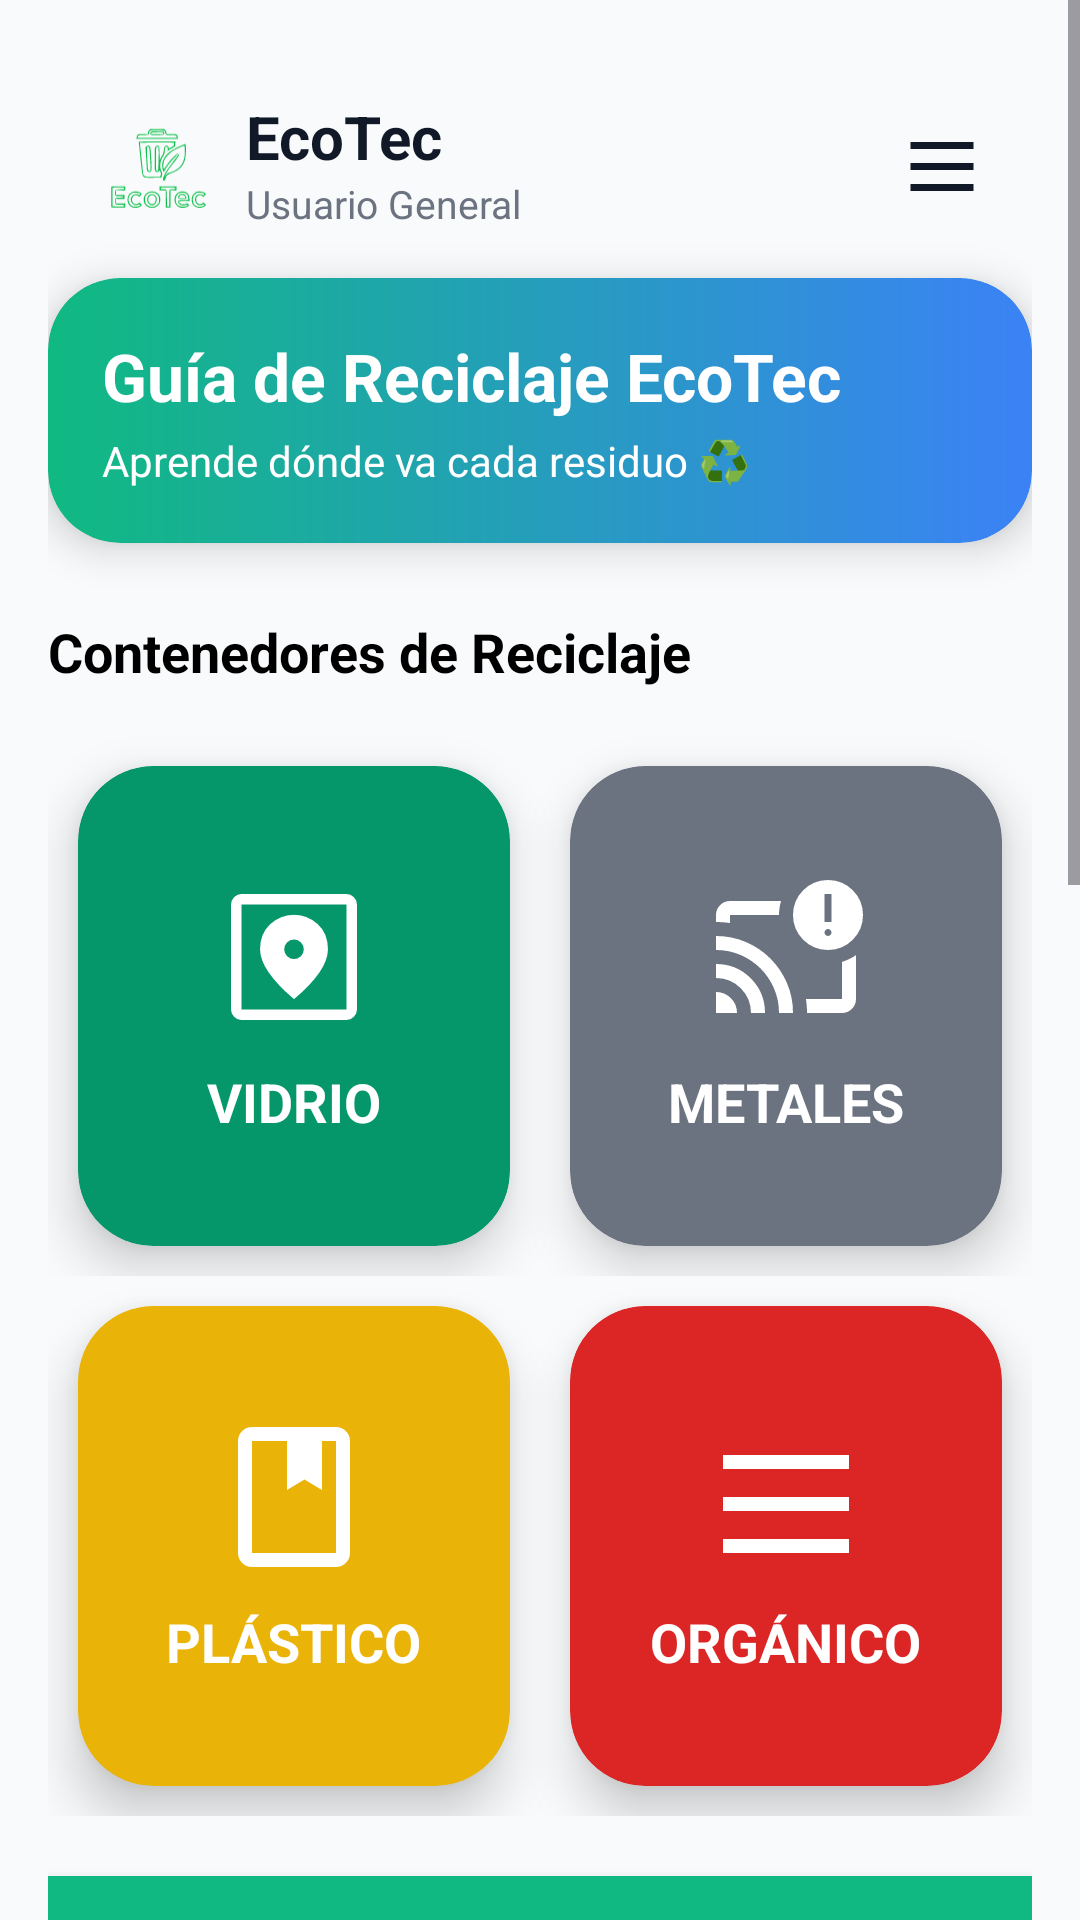

Where to tap for icons on this 1080*1920 app screen, as point (x, y):
alert: point (789, 946)
book: point (294, 1497)
map: point (294, 957)
menu: point (786, 1504)
Menú: point (942, 166)
